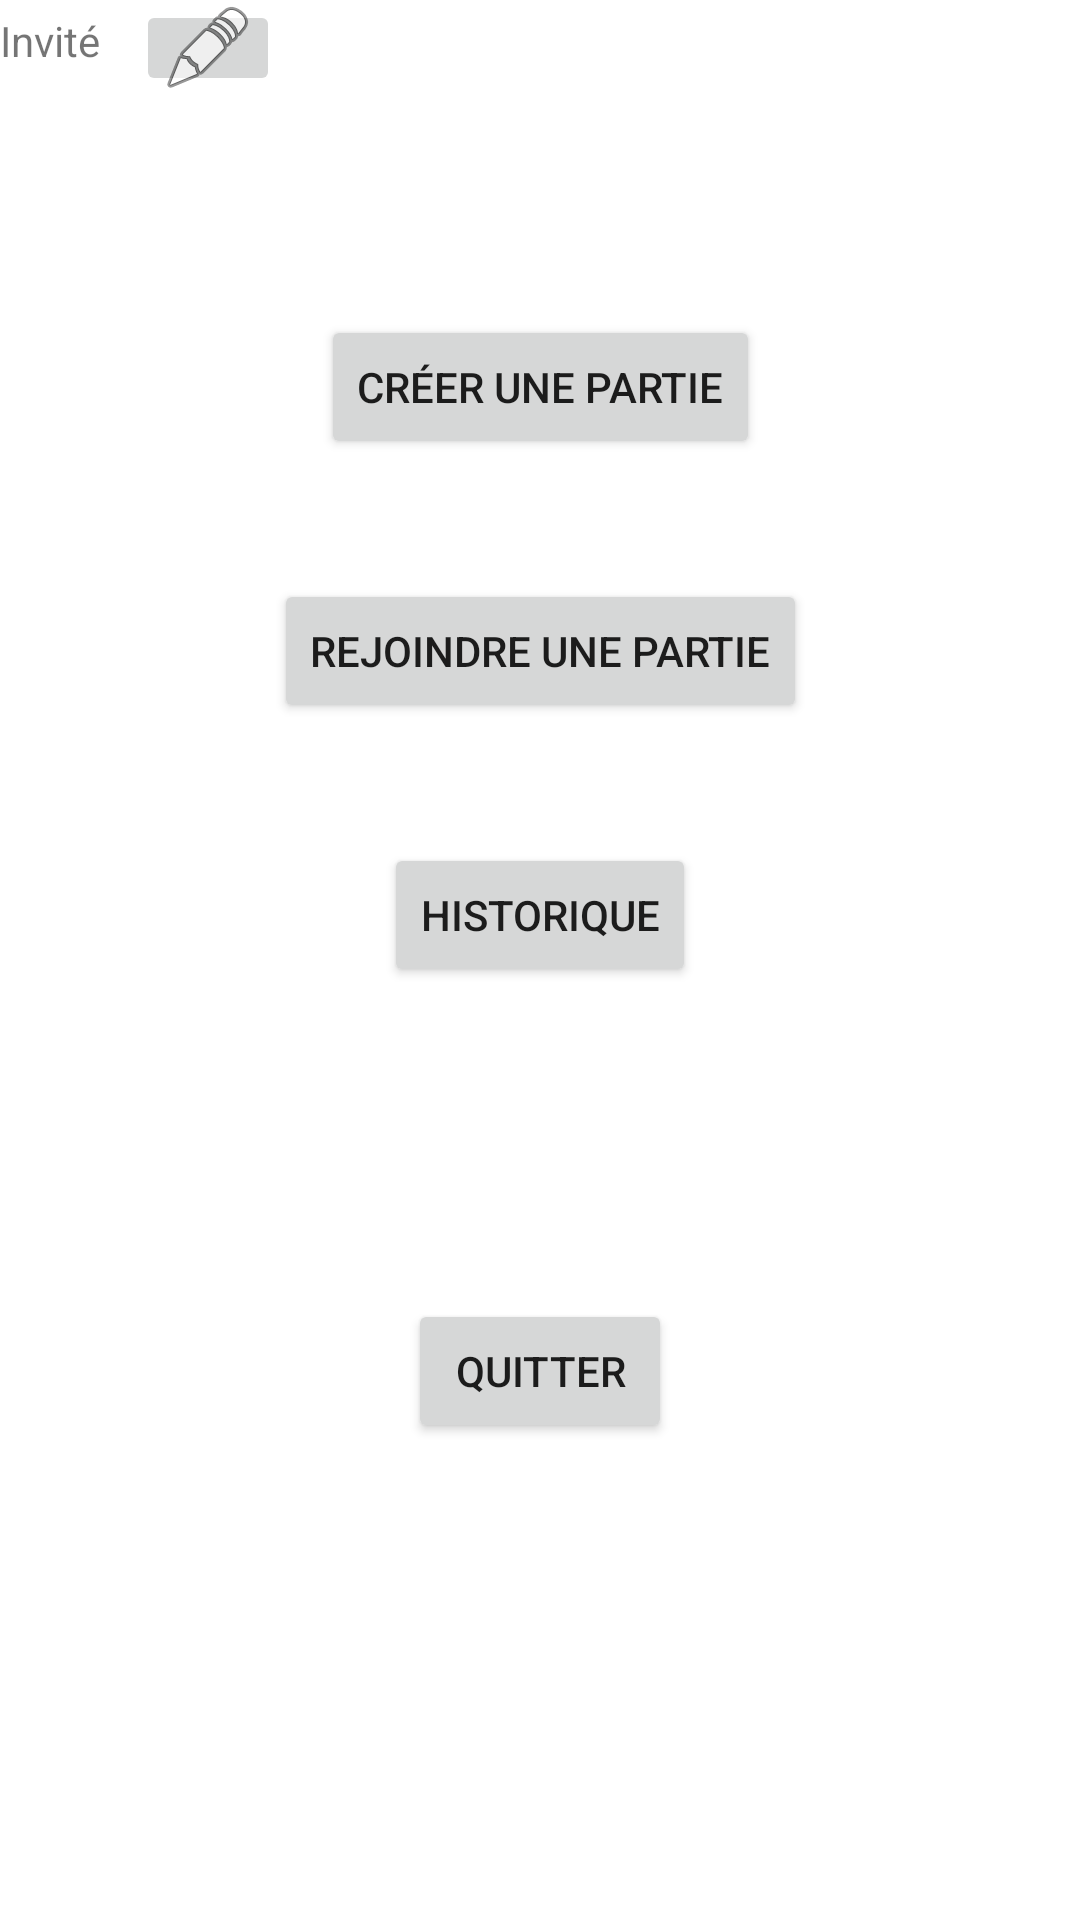

Named icons in this screenshot (1080×1920) and their centers, point (x, y):
edit: point (208, 47)
